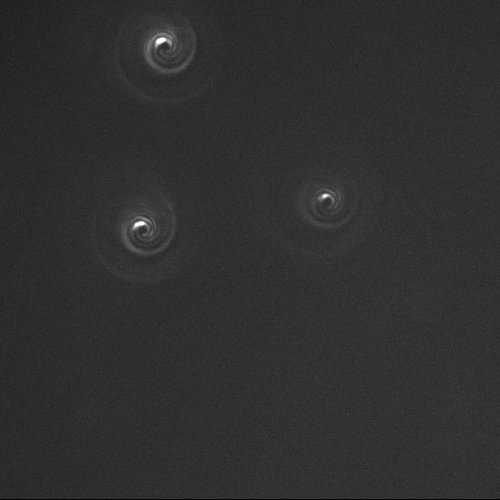spot: (115, 5, 213, 100), (97, 187, 190, 280), (282, 155, 376, 243)
